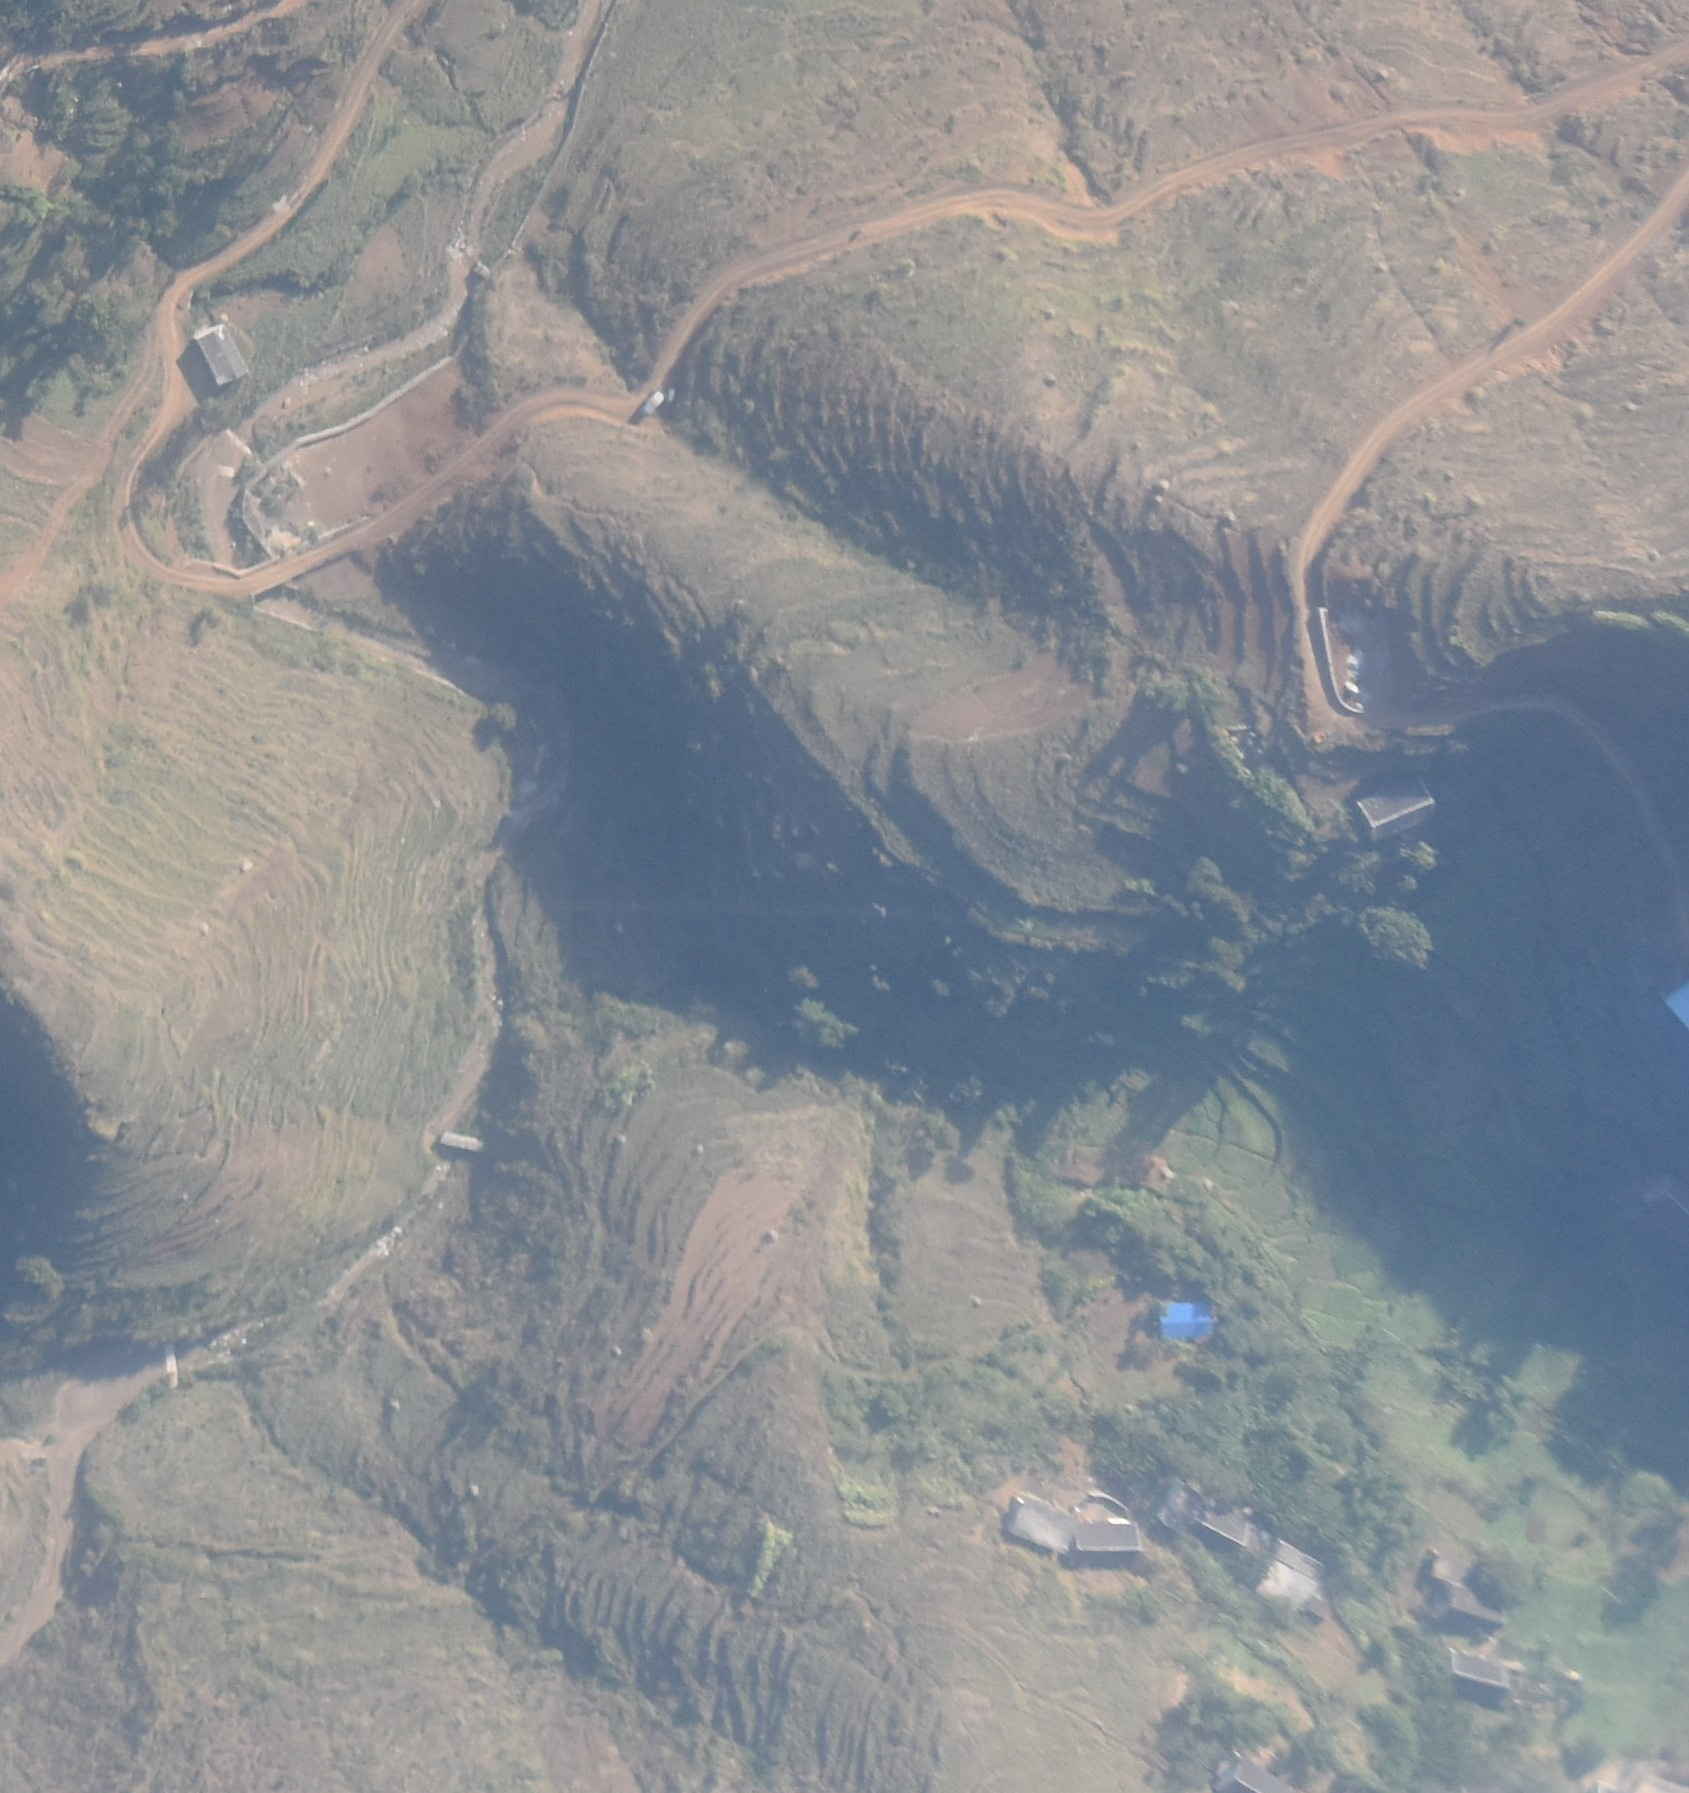building: (1254, 1539, 1324, 1625), (1358, 772, 1435, 837), (1430, 1577, 1502, 1632), (1007, 1499, 1078, 1554), (1446, 1649, 1510, 1705), (197, 323, 248, 384), (1077, 1523, 1143, 1566), (1199, 1501, 1249, 1549)
landslide: (270, 75, 588, 409)
prefabricated-house: (1155, 1300, 1219, 1343)
vehicle: (644, 389, 667, 419)
